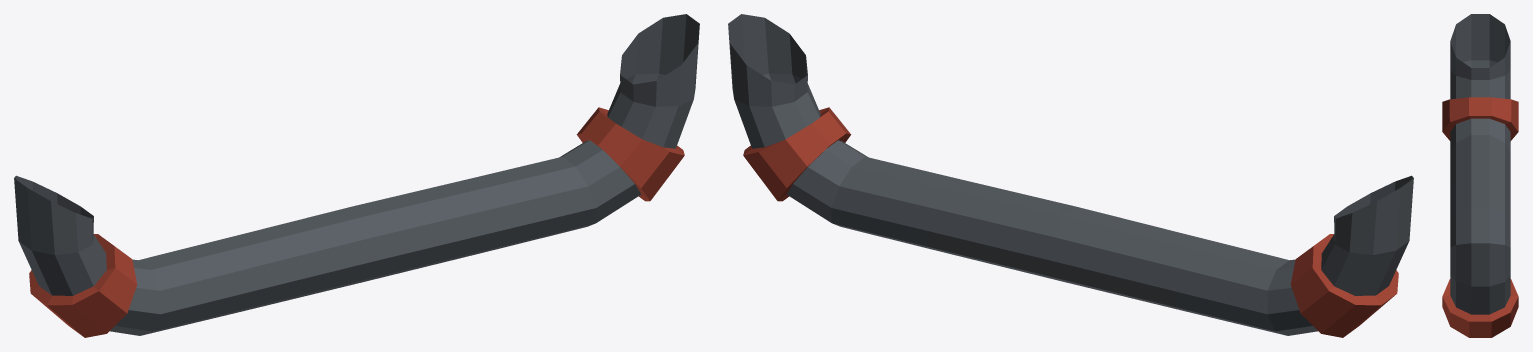
Rendered from Dropship_03_Piping_Big_Red.fbx.
3 renders of one model, left to right at view 1: azimuth 30°, elevation 25°; view 2: azimuth 150°, elevation 25°; view 3: azimuth 270°, elevation 25°, orthographic. The views are drawn at different scales.
Parts seen in each view (by area): view 1: Dropship_03_Piping_Big_Red; view 2: Dropship_03_Piping_Big_Red; view 3: Dropship_03_Piping_Big_Red.
Part boxes in pixels (bbox=[...]): Dropship_03_Piping_Big_Red: bbox=[14, 14, 699, 337]; Dropship_03_Piping_Big_Red: bbox=[728, 14, 1413, 337]; Dropship_03_Piping_Big_Red: bbox=[1442, 14, 1518, 337].
Size of the model in its own units: 284 by 71.02 by 39.79.
1 material, 1 textured.
